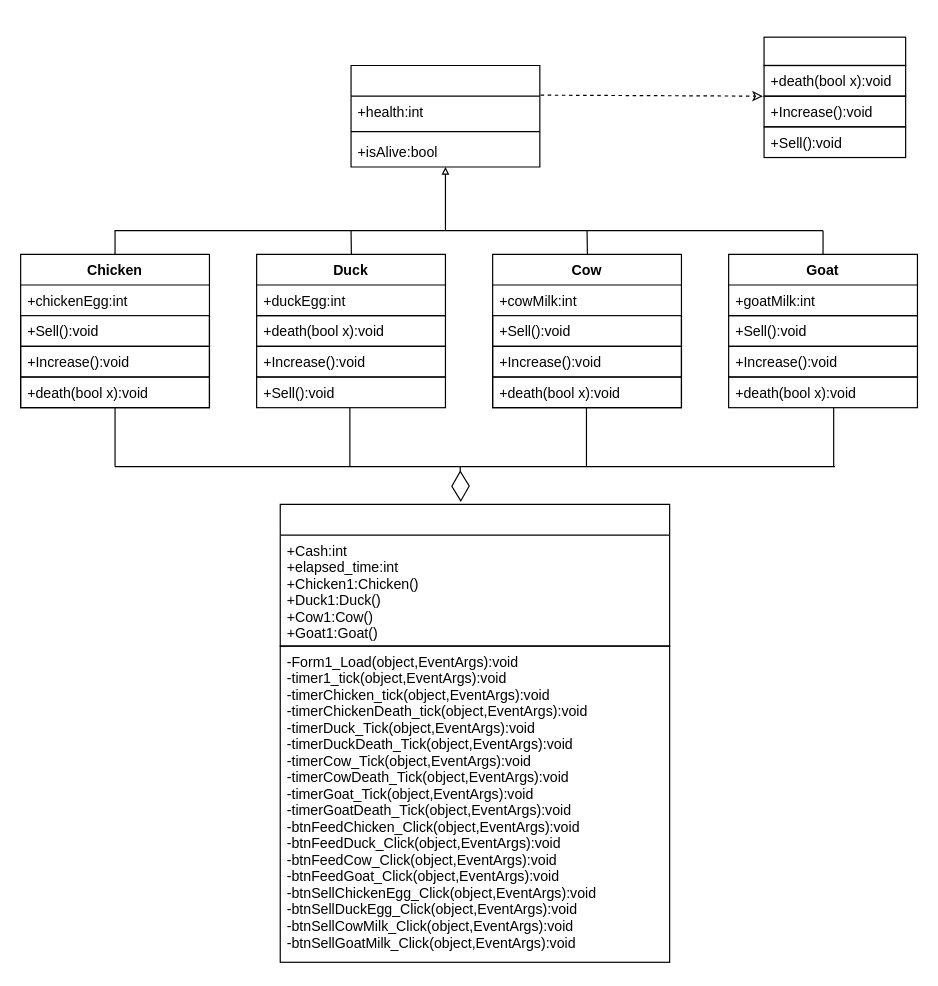
The diagram is 938 pixels wide and 986 high, and some of its shapes have lost their labels. The shapes that lost their labels are listed below. From the top down, each one's box as (x1, y1, x2, y2) in pixels, then its label:
(763, 36, 906, 65): «interface» Ifunctions
(350, 64, 540, 167): Animal
(279, 503, 670, 646): Coop
